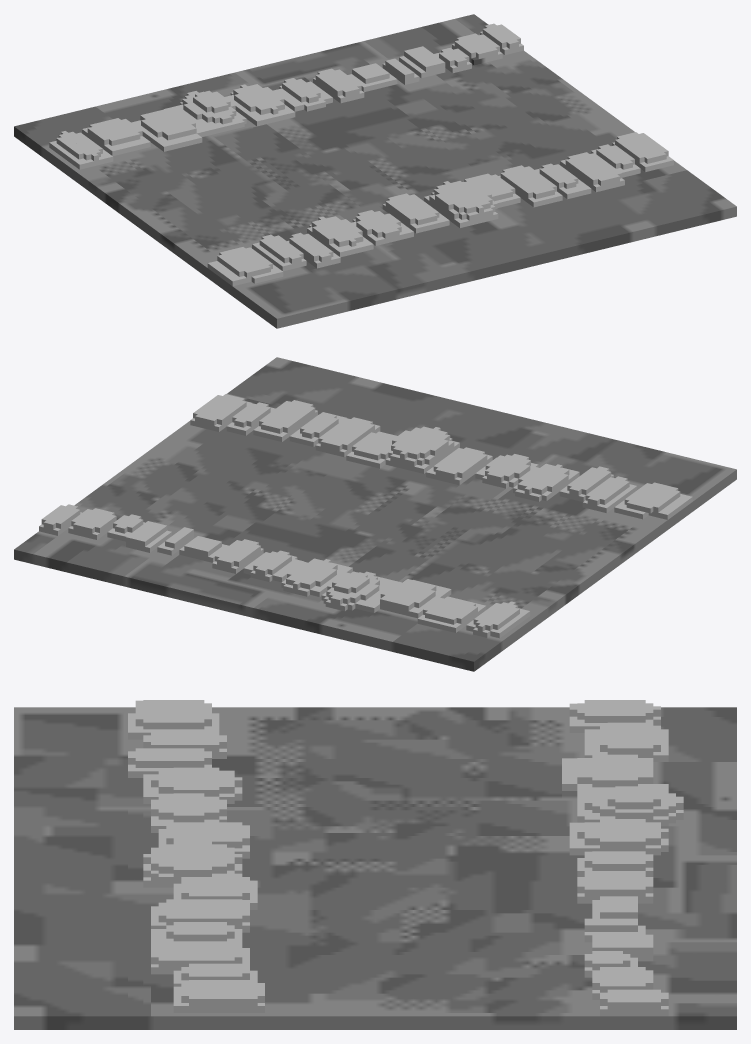
File: BlockLoad.dae
3 renders of one model, top to bottom at view 1: azimuth 30°, elevation 25°; view 2: azimuth 150°, elevation 25°; view 3: azimuth 270°, elevation 25°, orthographic. The views are drawn at different scales.
Visible parts, largest first — view 1: pl0; view 2: pl0; view 3: pl0.
Boxes of the visible parts, x1,y1,x2,y2 form: pl0: [14, 14, 736, 328]; pl0: [14, 357, 736, 671]; pl0: [14, 700, 736, 1029].
Bounding box in the file's own units: 96 × 95 × 5.
